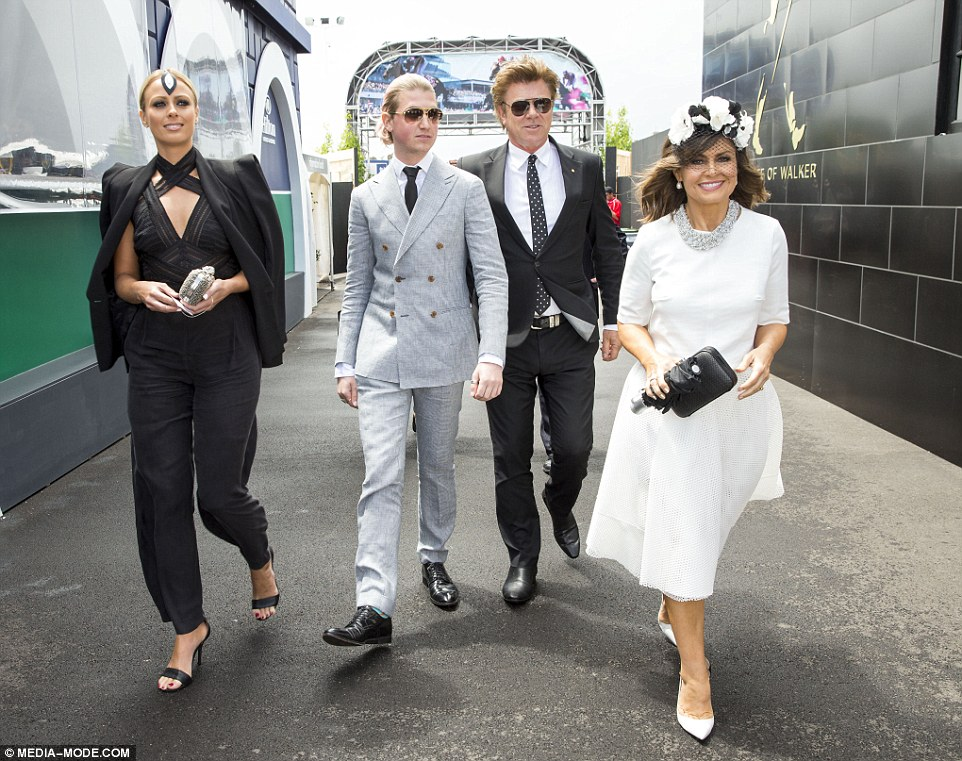Person: (87, 68, 285, 691), (620, 96, 791, 739), (325, 73, 488, 645), (488, 60, 618, 607)
